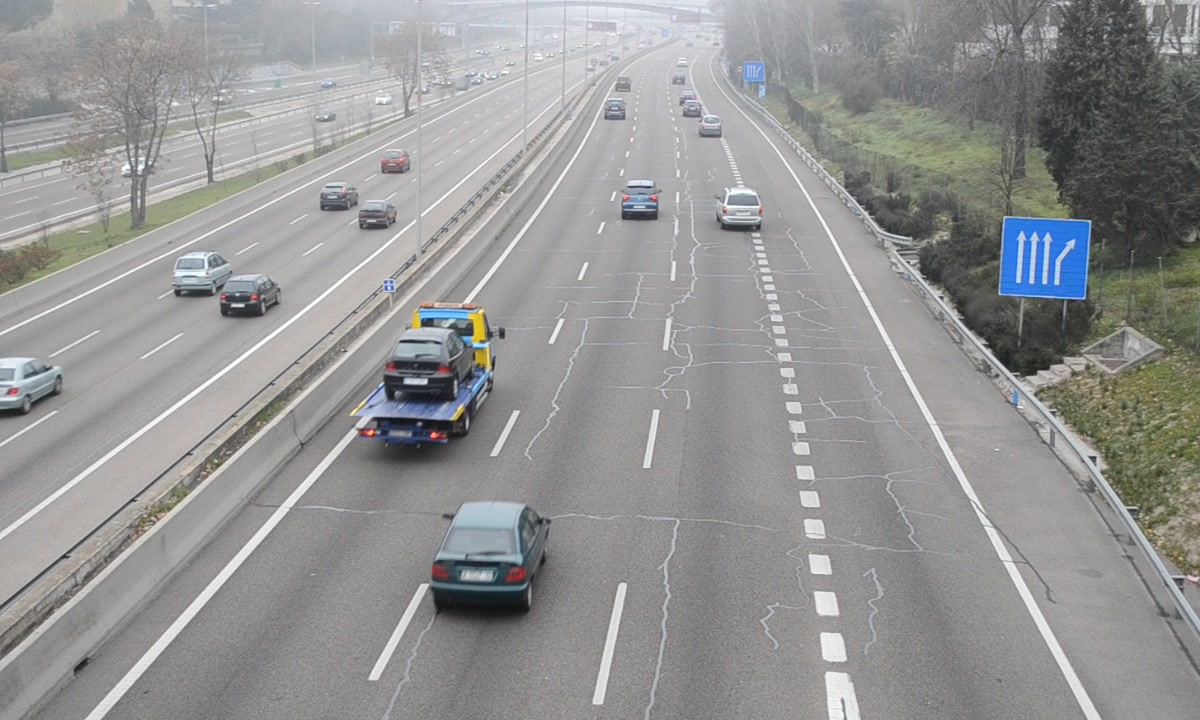car: (431, 502, 548, 598), (719, 187, 764, 231), (620, 180, 660, 218), (698, 115, 722, 140), (603, 99, 626, 123)
small-truck: (347, 303, 496, 445)
